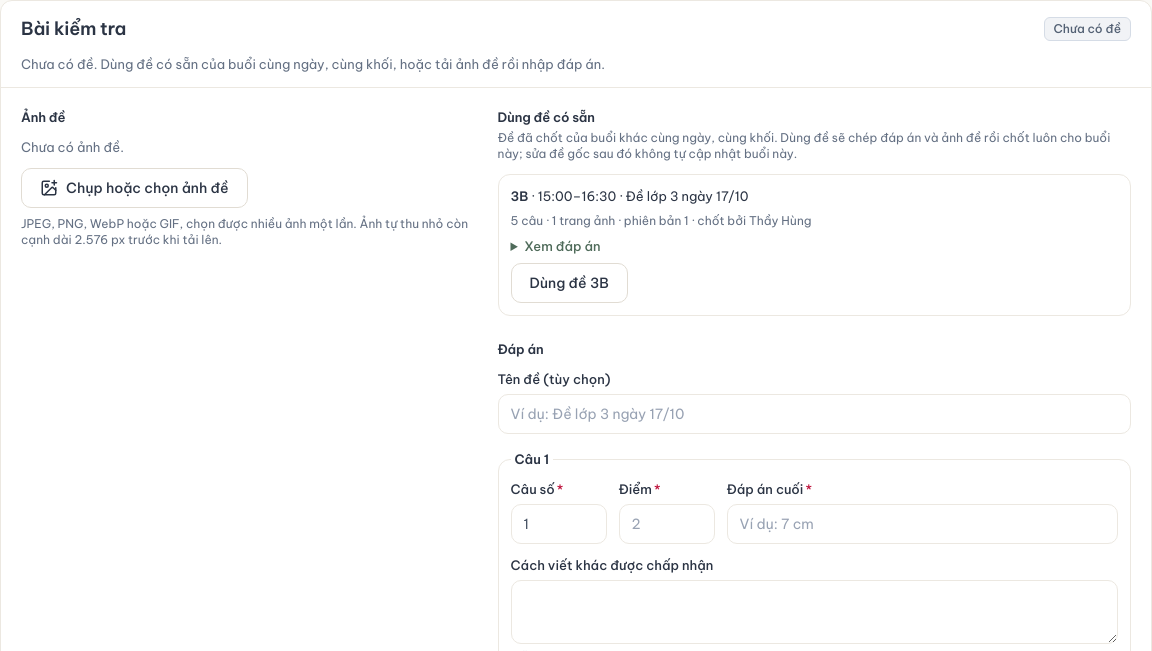
Test case: Dùng đề có sẵn › reuses a confirmed test of the same day and grade
The width and height of the screenshot is (1152, 651).
Expected: the text "Dùng đề sẽ chép đáp án và ảnh đề rồi chốt luôn" is shown, left=498, top=130, right=1131, bottom=162
Click the button "Dùng đề 3B".
click(569, 283)  # box left=510, top=263, right=628, bottom=303
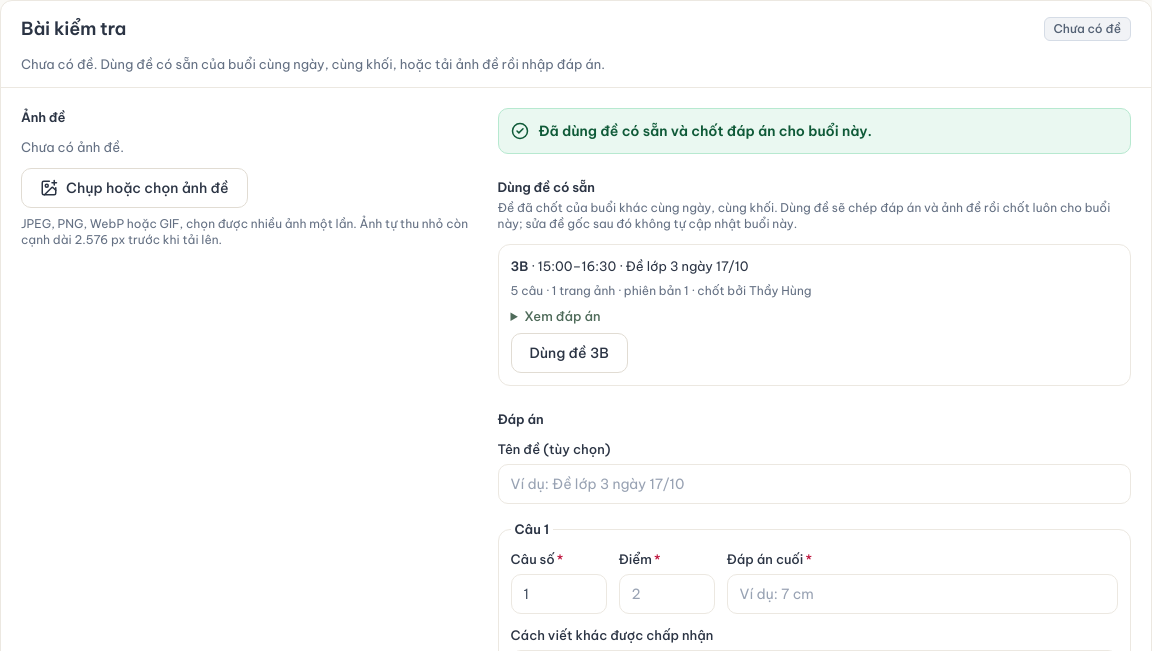
Result: the text "Đã dùng đề có sẵn và chốt đáp án cho buổi này." is shown at left=538, top=122, right=872, bottom=140
